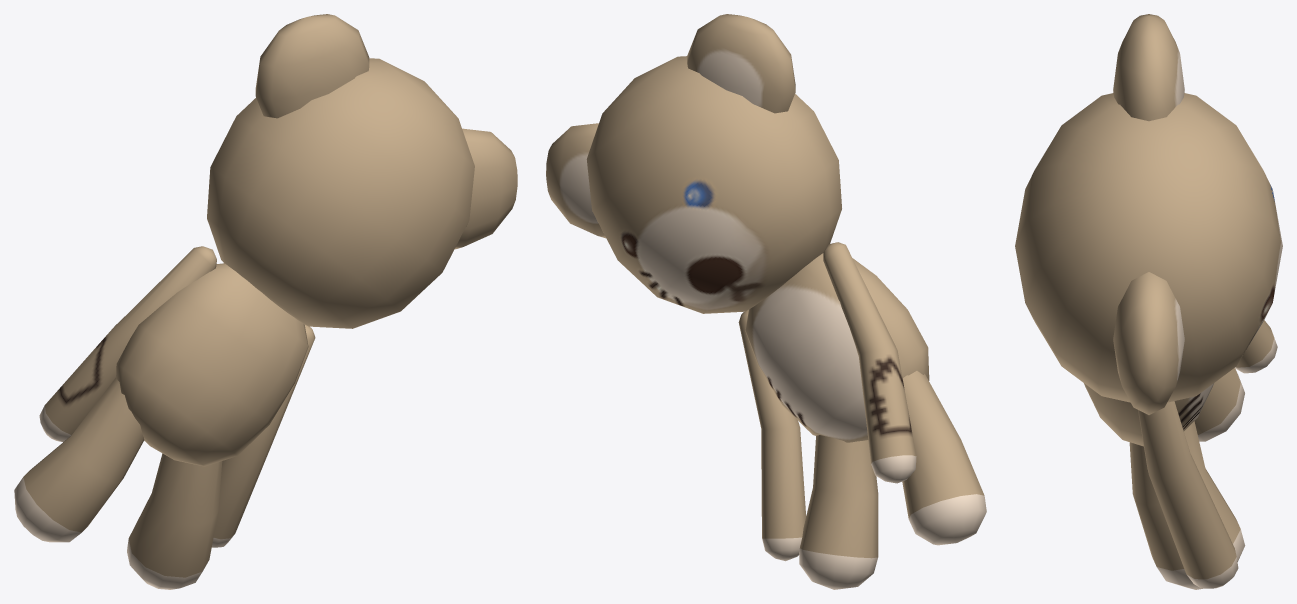
Rendered from back_acc_16.FBX.
The picture shows the model from 3 angles, left to right: view 1: azimuth 30°, elevation 25°; view 2: azimuth 150°, elevation 25°; view 3: azimuth 270°, elevation 25°; orthographic projection. The views are drawn at different scales.
Visible parts, largest first — view 1: back_acc_16; view 2: back_acc_16; view 3: back_acc_16.
Boxes of the visible parts, box(x1,y1,x2,y2) form: back_acc_16: box(14, 14, 517, 589); back_acc_16: box(546, 14, 986, 589); back_acc_16: box(1015, 14, 1282, 589).
Bounding box in the file's own units: 31.34 × 34.78 × 13.36.
